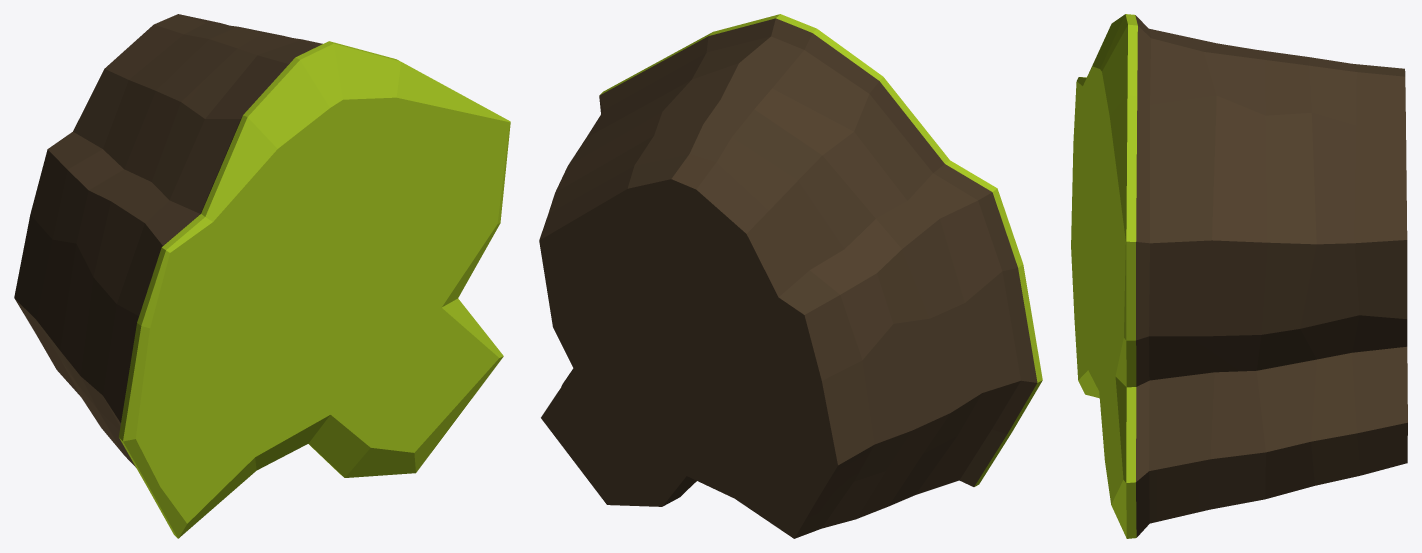
The model's file is Cliff2.fbx.
3 renders of one model, left to right at view 1: azimuth 30°, elevation 25°; view 2: azimuth 150°, elevation 25°; view 3: azimuth 270°, elevation 25°, orthographic. The views are drawn at different scales.
Visible parts, largest first — view 1: Cliff_Small_1; view 2: Cliff_Small_1; view 3: Cliff_Small_1.
Boxes of the visible parts, x1,y1,x2,y2 form: Cliff_Small_1: [14, 14, 510, 538]; Cliff_Small_1: [539, 14, 1042, 538]; Cliff_Small_1: [1071, 14, 1407, 538].
Size of the model in its own units: 5.55 by 5.79 by 3.75.
